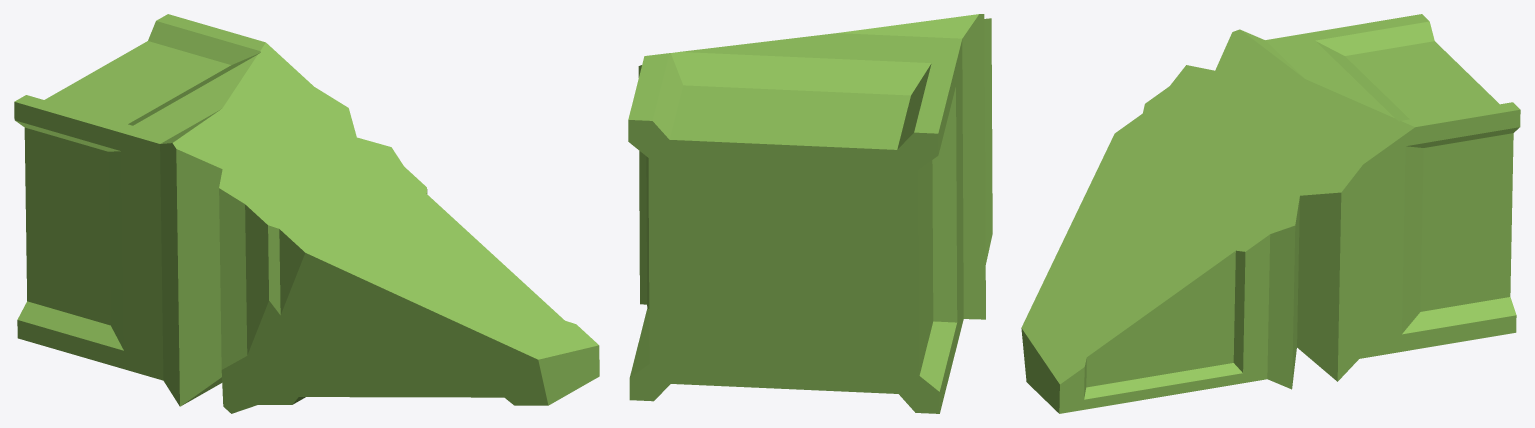
File: BrokenBlock6.obj
3 views of the same model, side by side, from view 1: azimuth 30°, elevation 25°; view 2: azimuth 150°, elevation 25°; view 3: azimuth 270°, elevation 25° (orthographic). The views are drawn at different scales.
Parts seen in each view (by area): view 1: BrokenBlock6; view 2: BrokenBlock6; view 3: BrokenBlock6.
Part boxes in pixels (x1,y1,x2,y2): BrokenBlock6: (14, 14, 599, 413); BrokenBlock6: (628, 14, 992, 413); BrokenBlock6: (1021, 14, 1520, 413).
Bounding box in the file's own units: 7.11 × 4.49 × 8.25.
